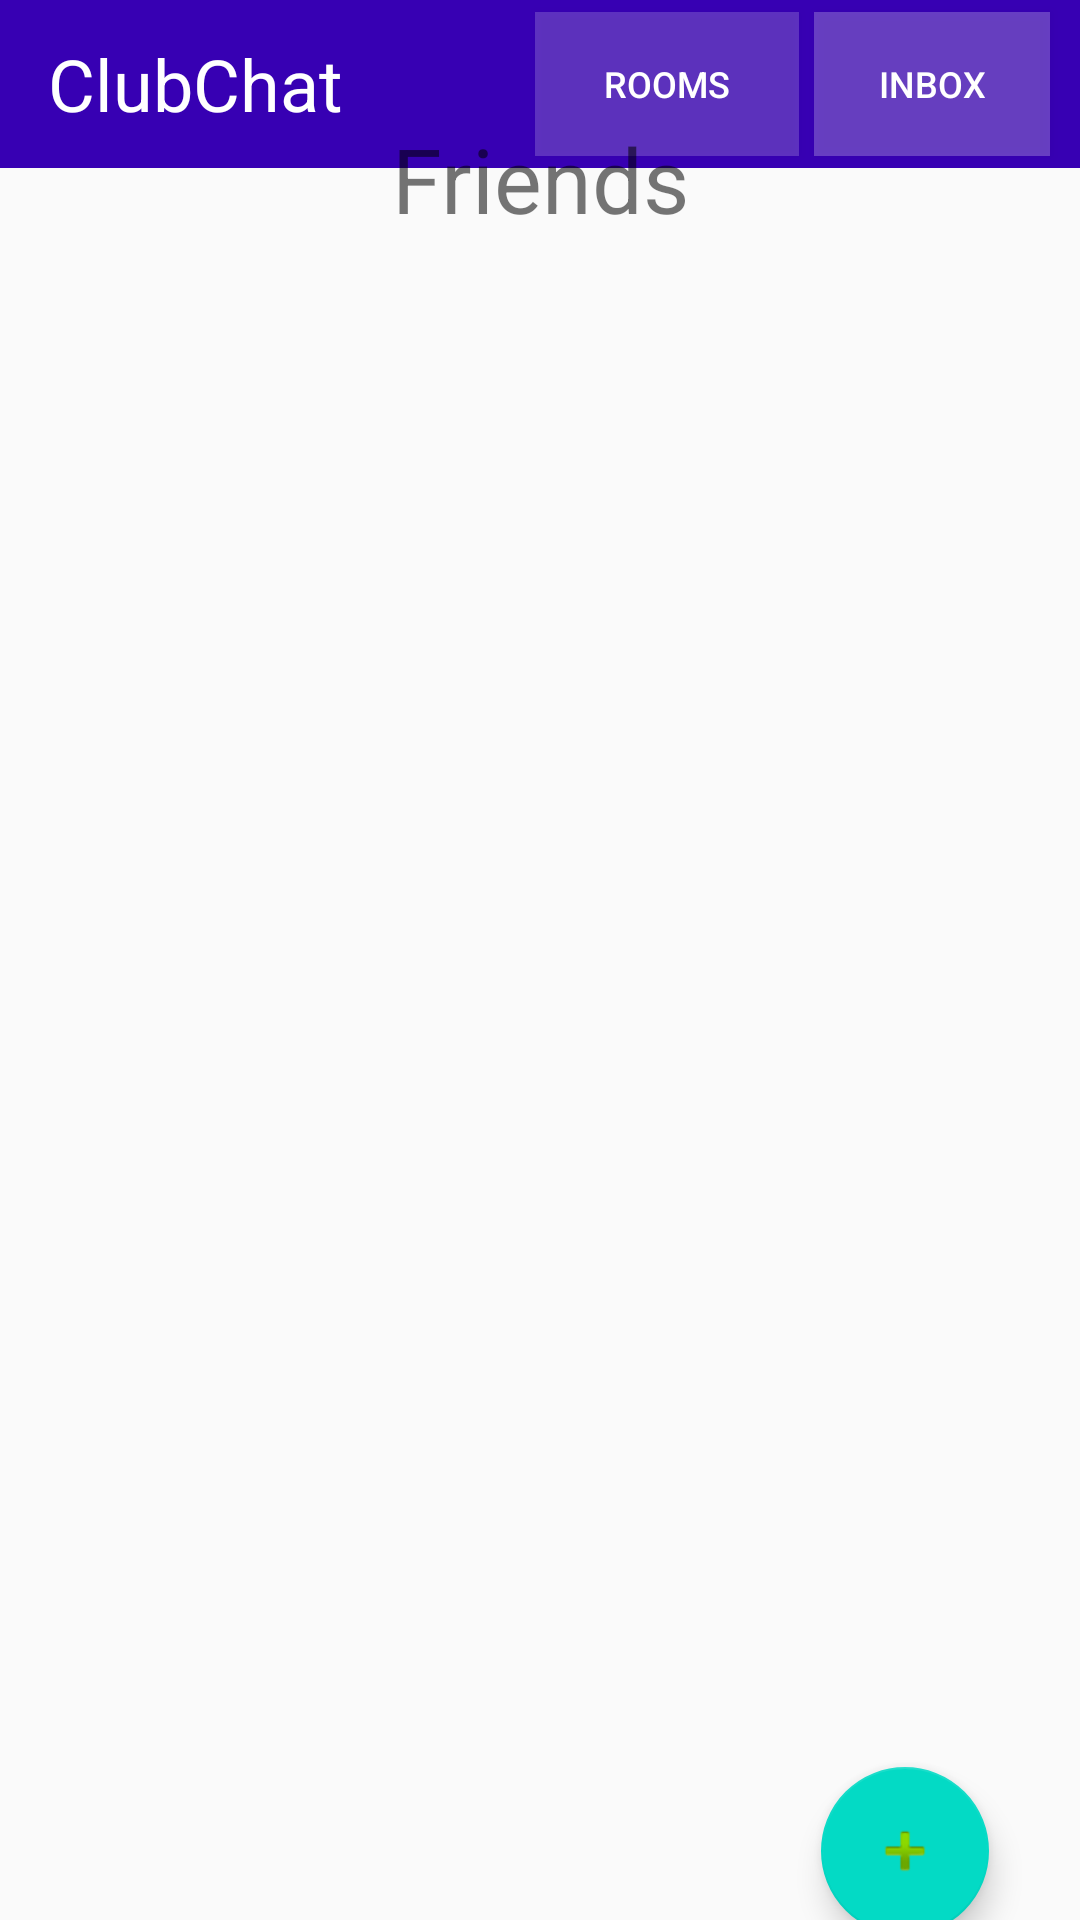

Icons on this 1080 × 1920 Android screen, each with its box as (left=x1, top=y1, right=x2, bottom=y2):
add: (left=821, top=1767, right=989, bottom=1920)
